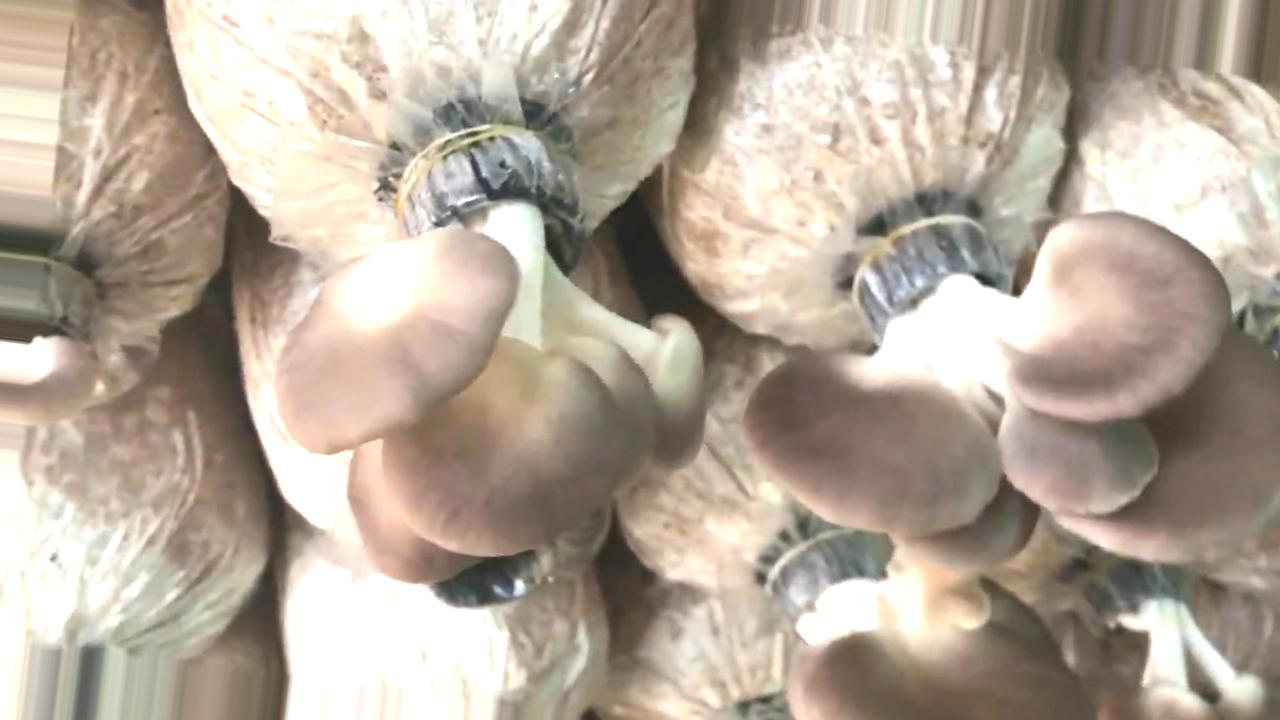nam: (281, 124, 706, 579), (746, 213, 1279, 569), (767, 537, 1074, 720), (1078, 570, 1280, 718), (1, 230, 101, 420)
